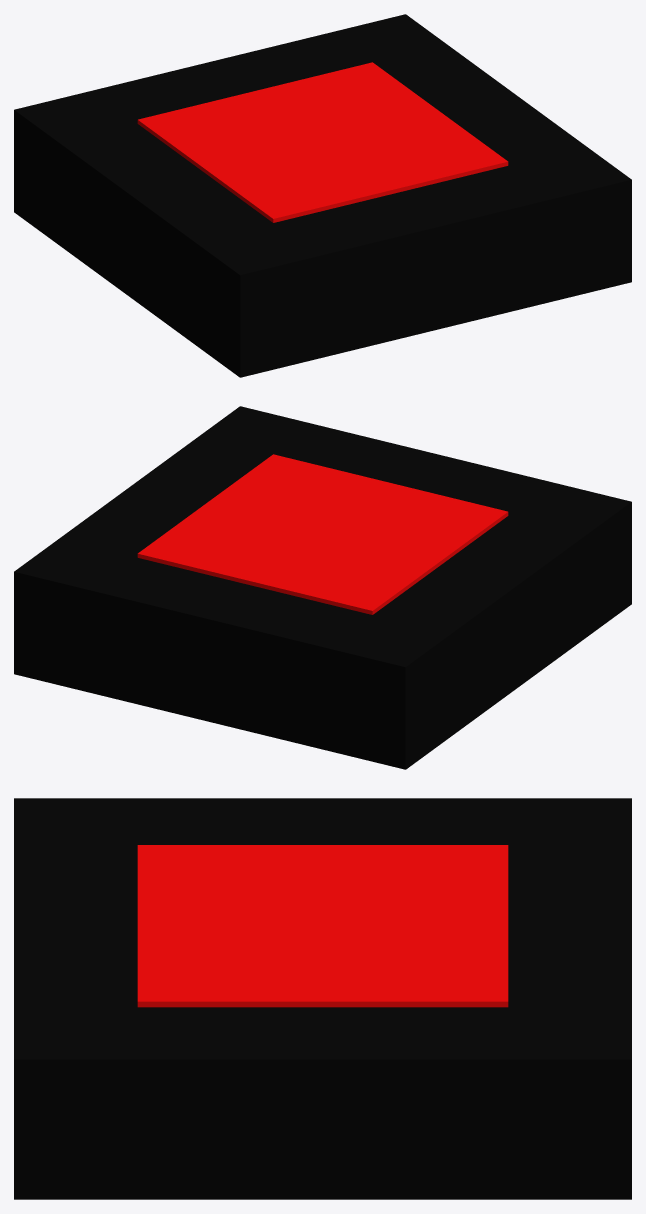
The model's file is switch1.fbx.
3 renders of one model, top to bottom at view 1: azimuth 30°, elevation 25°; view 2: azimuth 150°, elevation 25°; view 3: azimuth 270°, elevation 25°, orthographic. The views are drawn at different scales.
Visible parts, largest first — view 1: Cube, 立方体; view 2: Cube, 立方体; view 3: Cube, 立方体.
Boxes of the visible parts, x1,y1,x2,y2 form: Cube: (14, 14, 631, 377); 立方体: (137, 62, 508, 222); Cube: (14, 406, 631, 769); 立方体: (137, 454, 508, 614); Cube: (14, 798, 631, 1199); 立方体: (137, 845, 508, 1007).
Size of the model in its own units: 20 by 5.2 by 20.
1 material, 1 textured.
